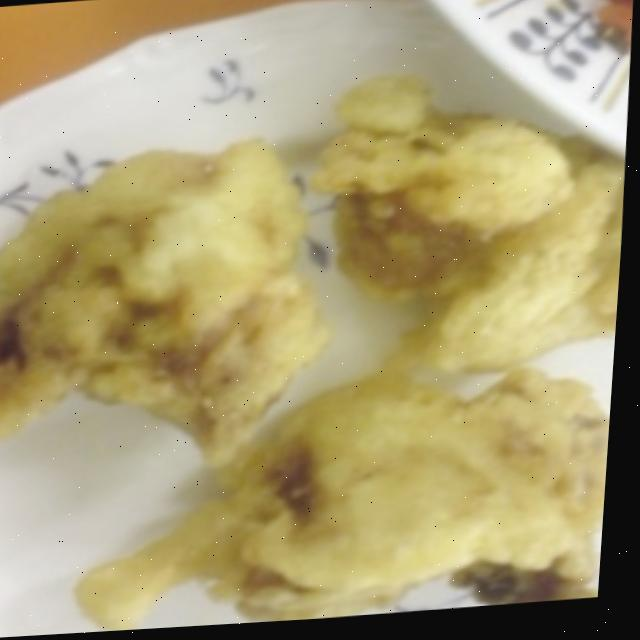鸡肉料理 含炸鸡: (0, 77, 634, 640)
